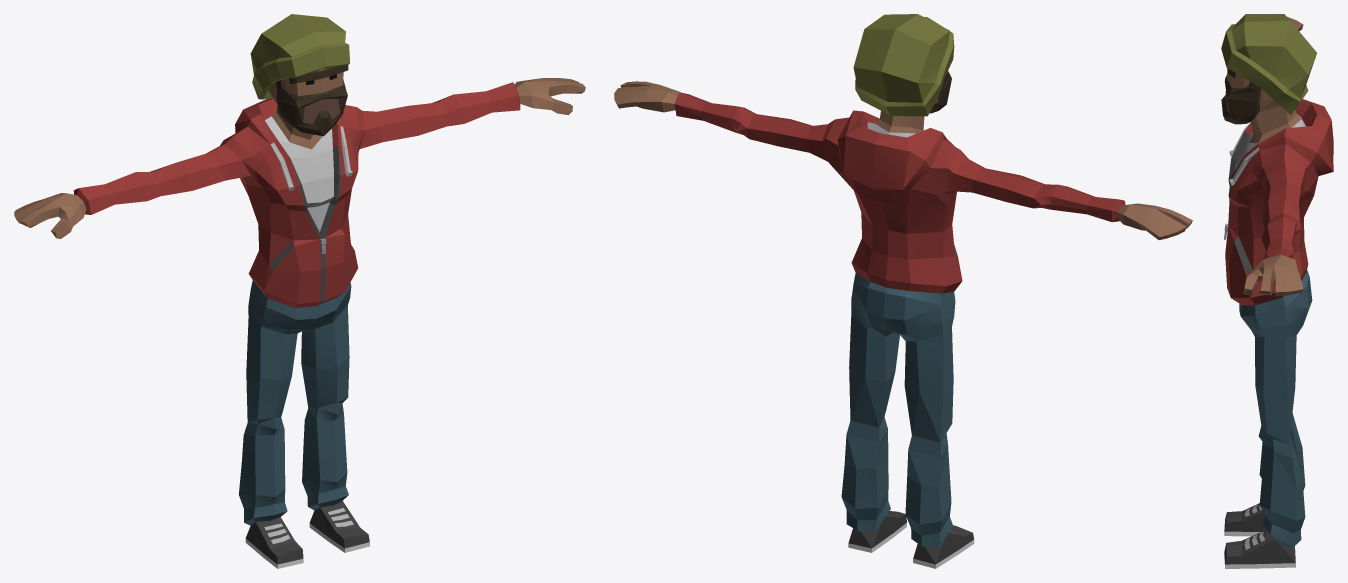
File: drogata.fbx
3 renders of one model, left to right at view 1: azimuth 30°, elevation 25°; view 2: azimuth 150°, elevation 25°; view 3: azimuth 270°, elevation 25°, orthographic.
Visible parts, largest first — view 1: Character_Male_Hoodie; view 2: Character_Male_Hoodie; view 3: Character_Male_Hoodie.
Boxes of the visible parts, <box> form: Character_Male_Hoodie: <box>14,14,585,568</box>; Character_Male_Hoodie: <box>614,14,1192,568</box>; Character_Male_Hoodie: <box>1221,14,1333,568</box>.
Bounding box in the file's own units: 205 × 181 × 35.16.
